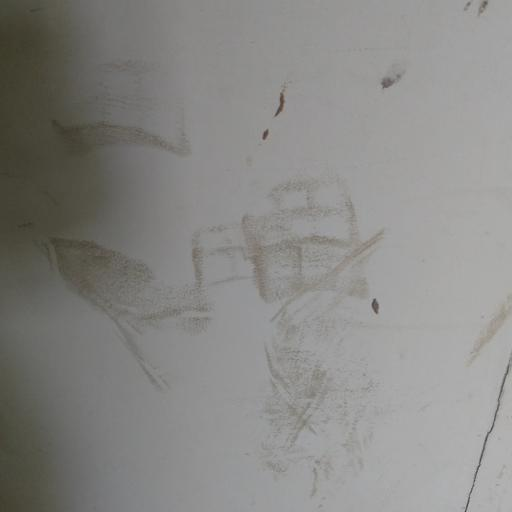stain: (51, 81, 456, 455)
